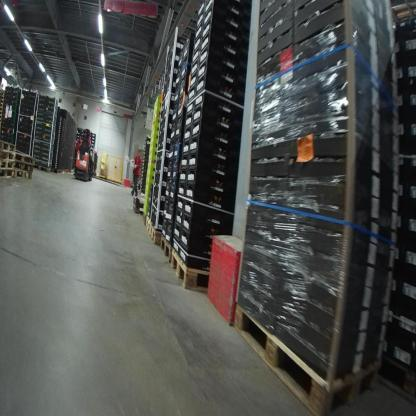pallets: (233, 303, 381, 413), (142, 214, 210, 291), (0, 134, 64, 186)
